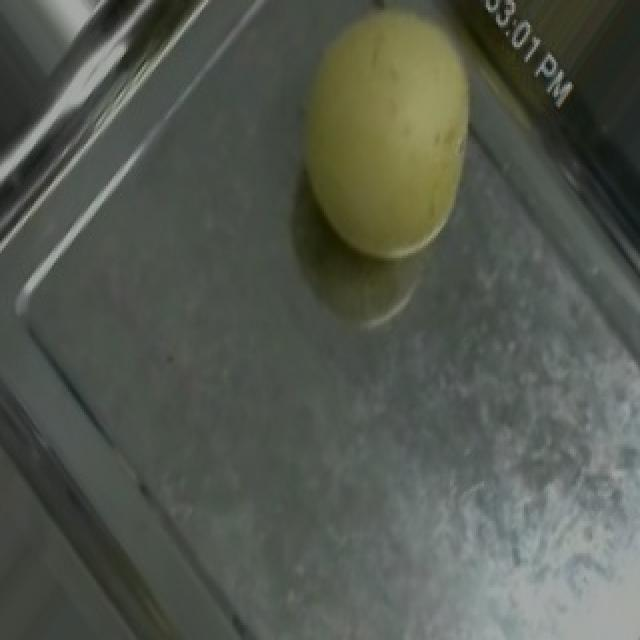Fruit: (254, 0, 514, 288)
